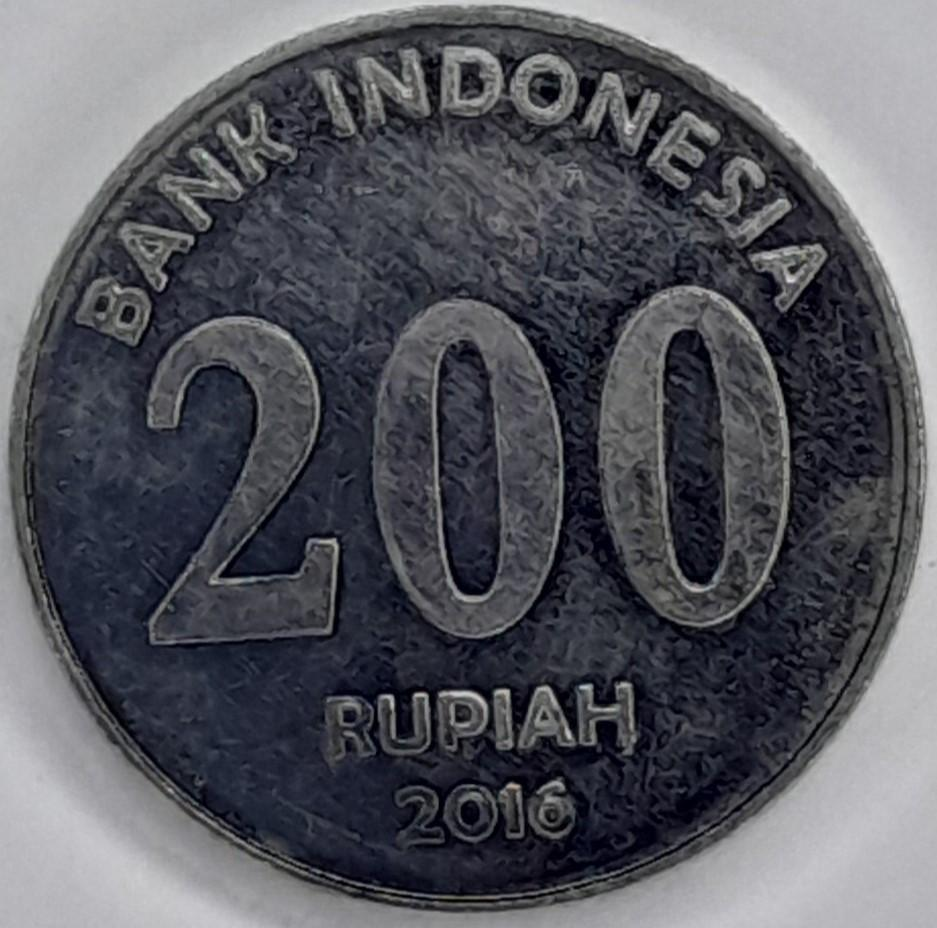coin_200_e2016: (0, 16, 937, 928)
